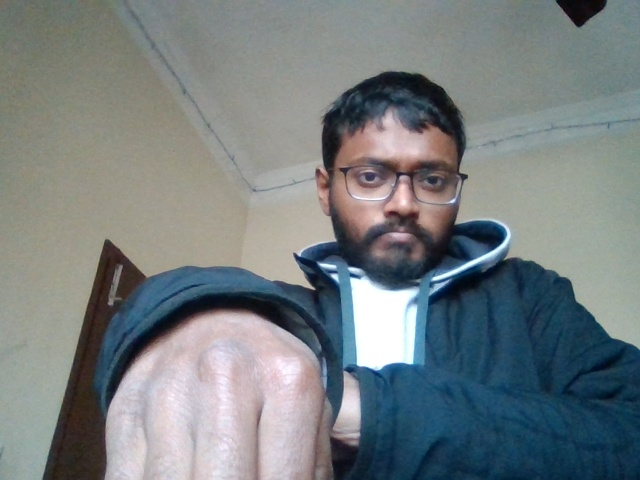evening: (90, 245, 388, 480)
